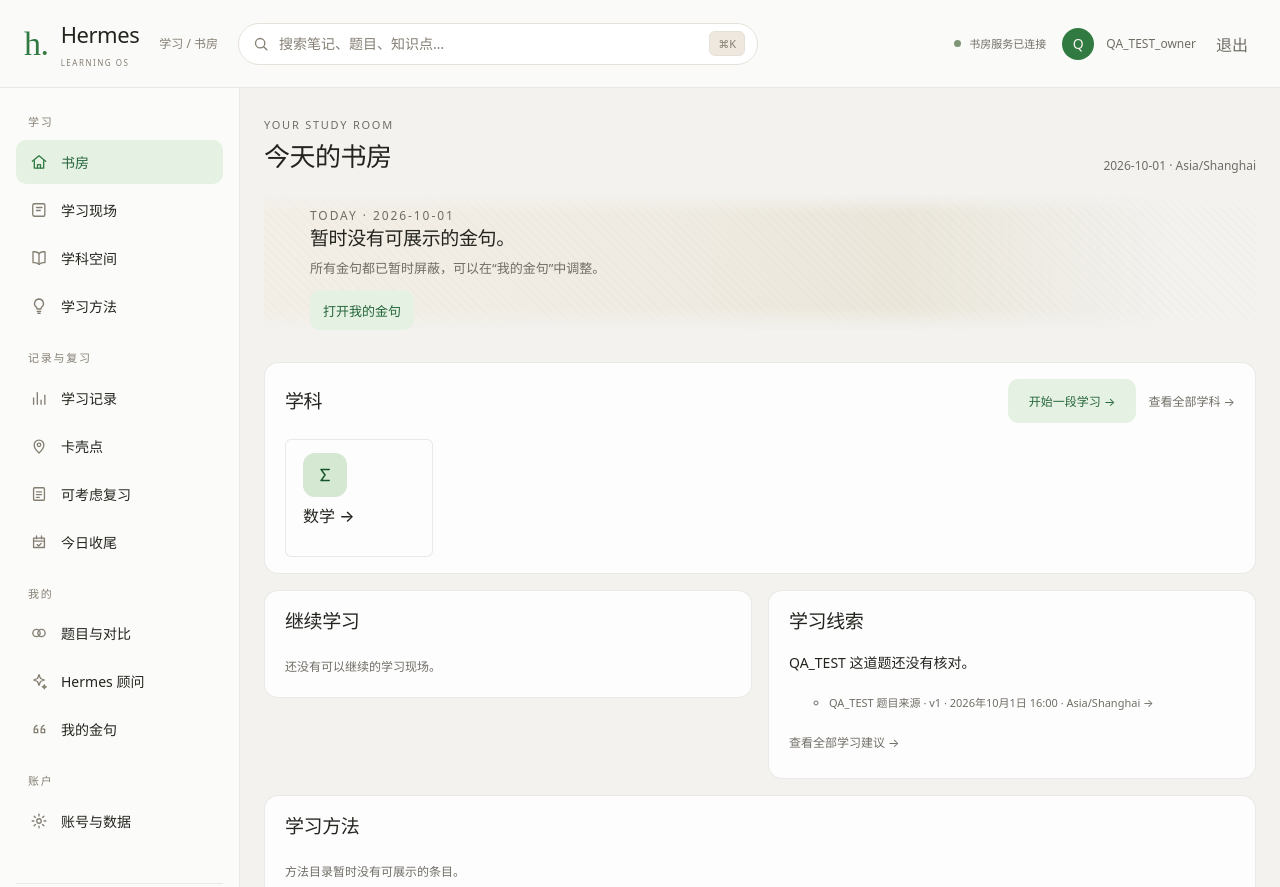
Test: sidebar navigation resets page-scoped state › drops the preselected comparison problem when entering 题目与对比 from the sidebar
Click the button "QA_TEST 题目来源 · v1 · 2026年10月1日 16:00 · Asia/Shanghai →": coordinates (993, 702) 829,682 -> 1158,722
(page scrolled)
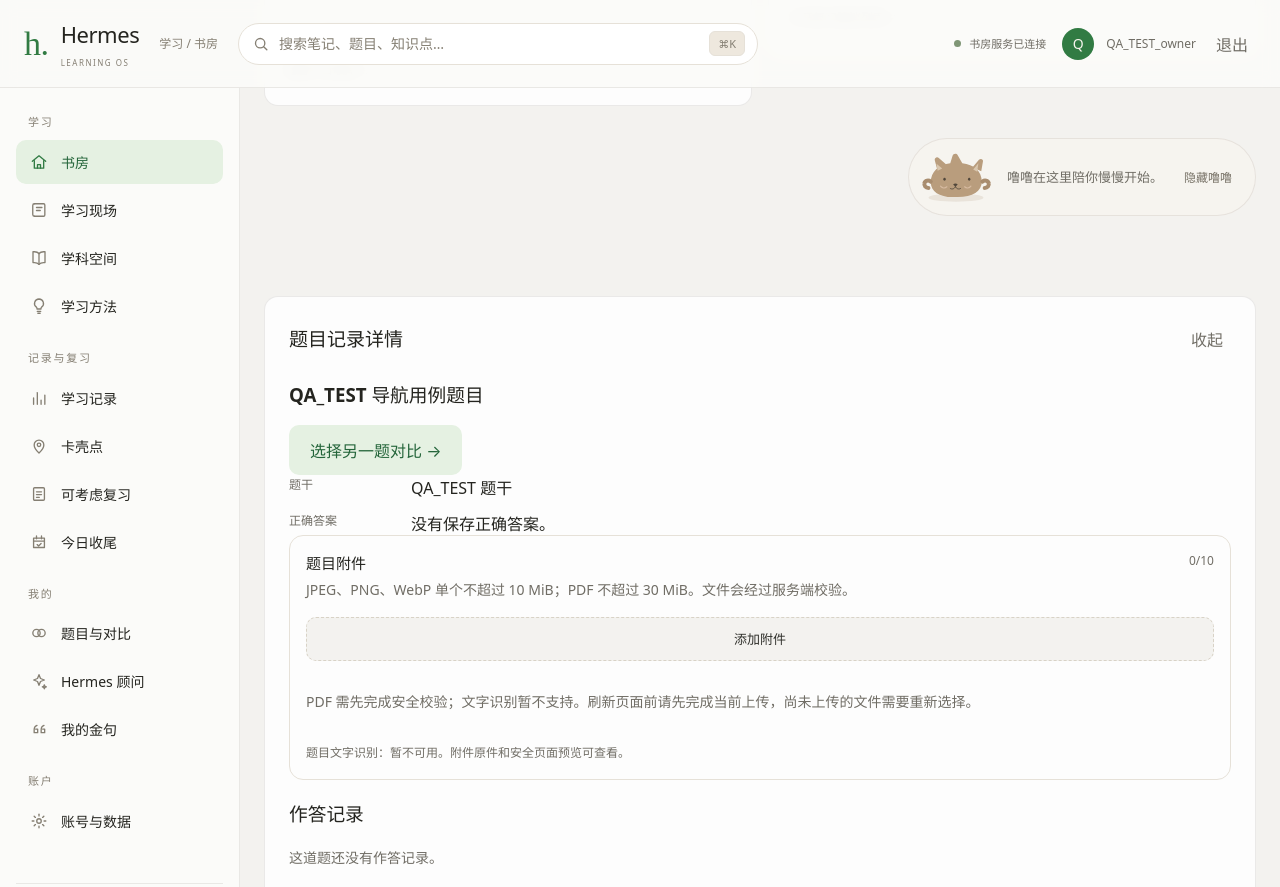
Click the button "选择另一题对比 →": coordinates (376, 450) 289,425 -> 462,475
(page scrolled)
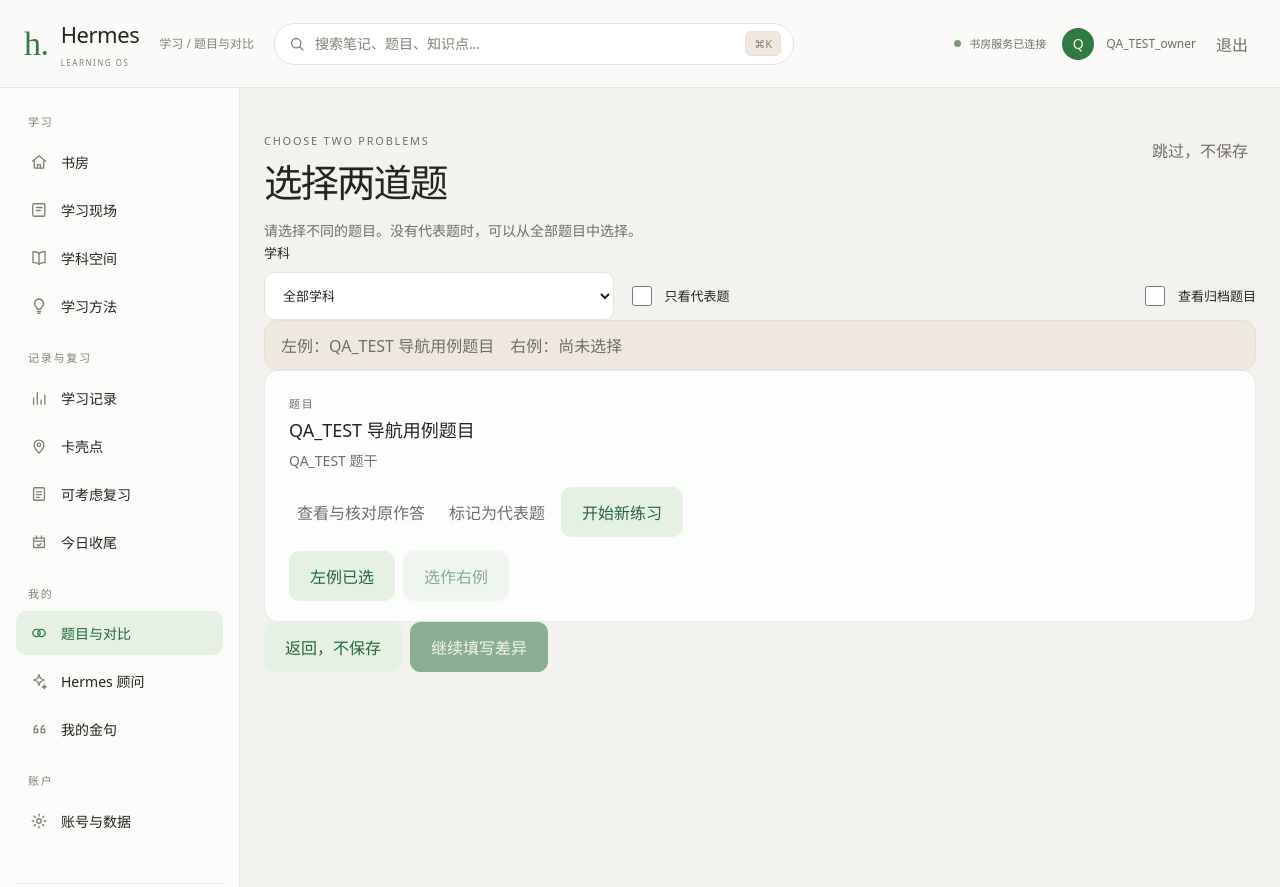
Click the checkbox labelled "查看归档题目": coordinates (1155, 296) 1145,286 -> 1165,306
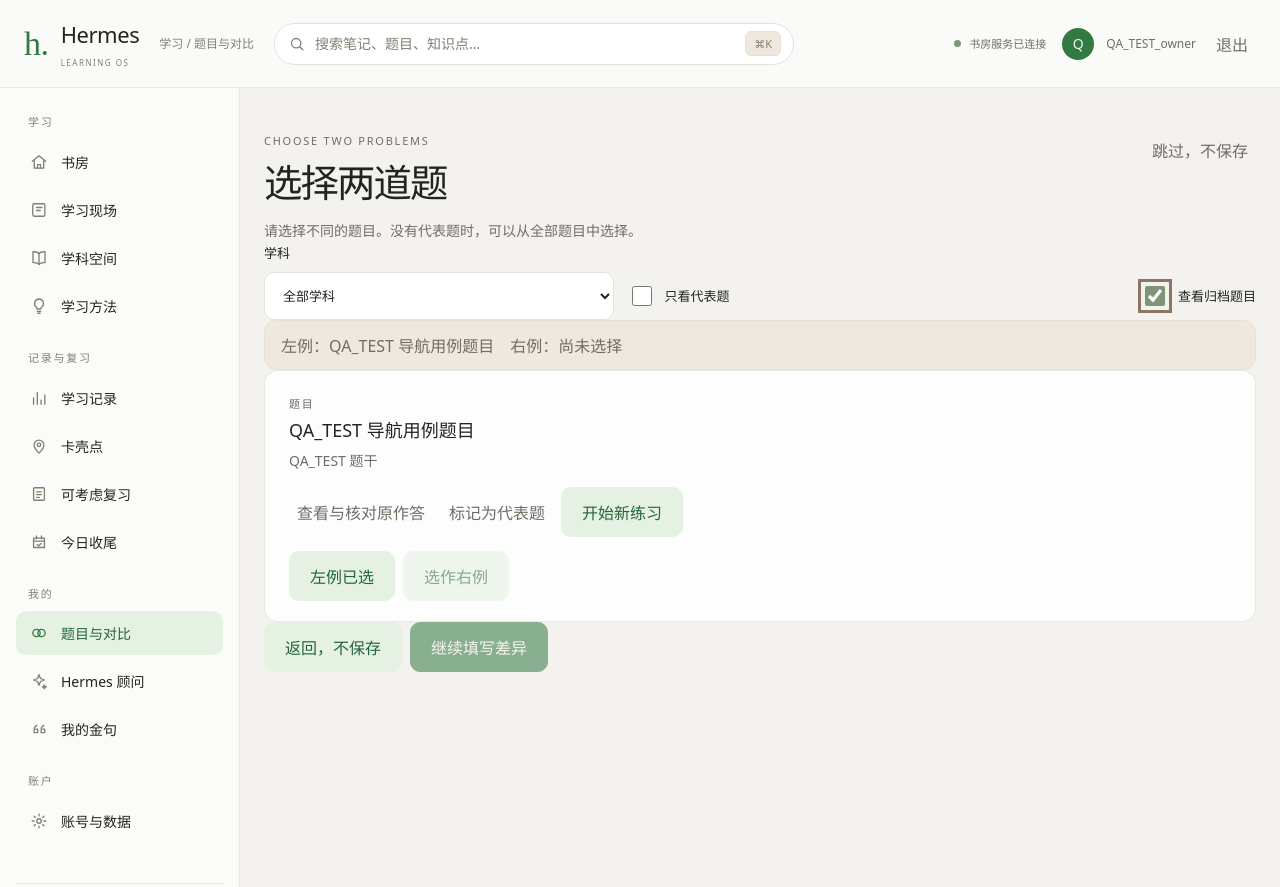
Expected: the checkbox labelled "查看归档题目" is checked, 1145,286 -> 1165,306
Click the button "题目与对比": coordinates (120, 633) 16,611 -> 223,655
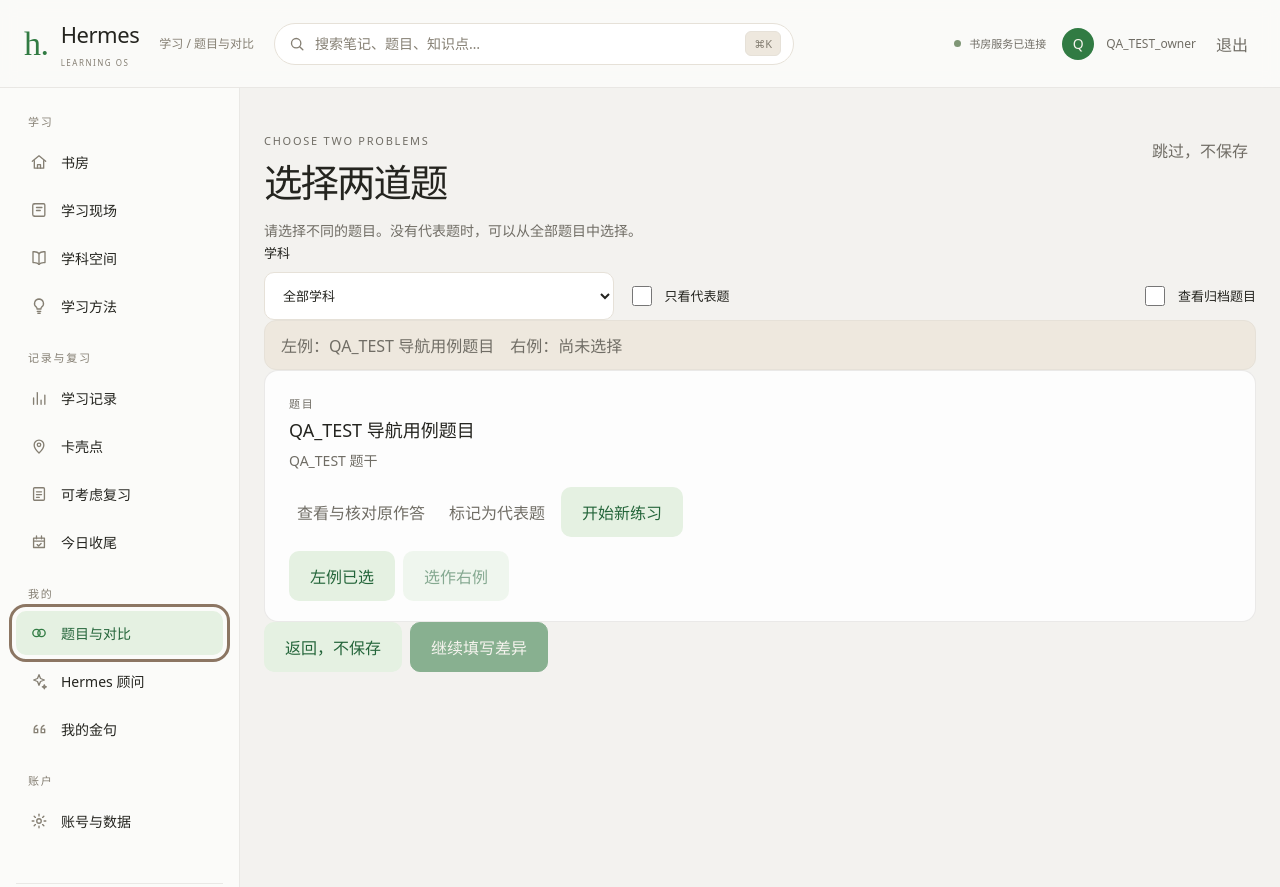
Expected: the heading "题目记录详情" is not shown
Expected: the checkbox labelled "查看归档题目" is not checked, 1145,286 -> 1165,306
